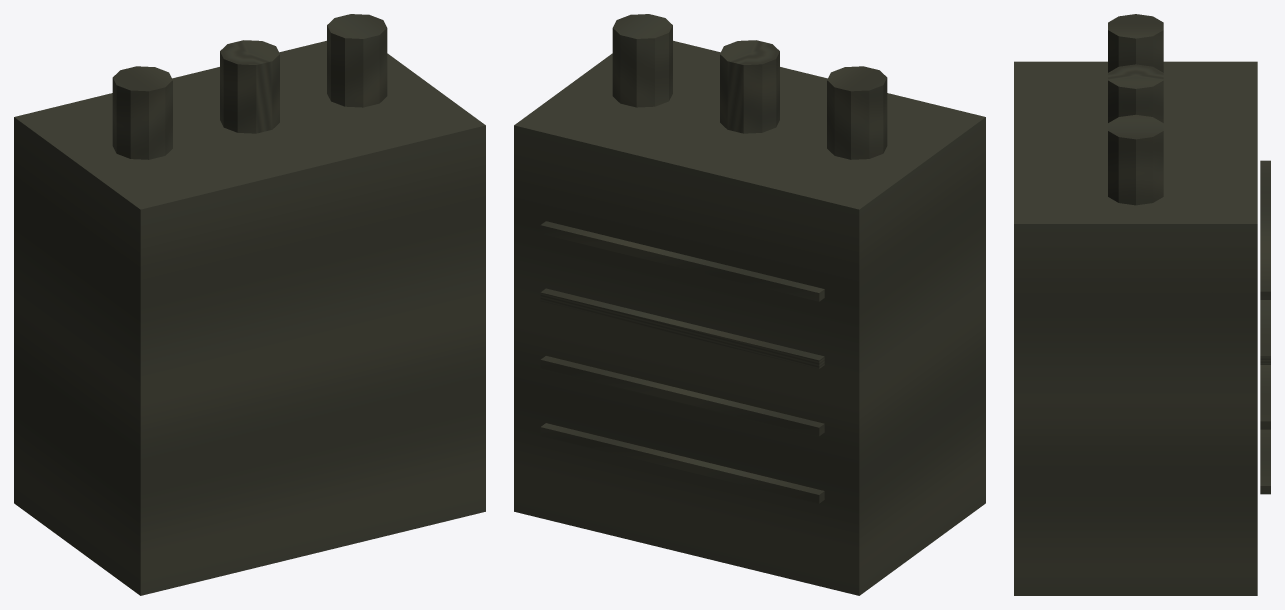
File: env_industrial_cooling_unit_a.glb
3 renders of one model, left to right at view 1: azimuth 30°, elevation 25°; view 2: azimuth 150°, elevation 25°; view 3: azimuth 270°, elevation 25°, orthographic. The views are drawn at different scales.
Visible parts, largest first — view 1: env_industrial_cooling_unit_a; view 2: env_industrial_cooling_unit_a; view 3: env_industrial_cooling_unit_a.
Part boxes in pixels (left/top/right/bottom): env_industrial_cooling_unit_a: left=14, top=14, right=485, bottom=595; env_industrial_cooling_unit_a: left=514, top=14, right=985, bottom=595; env_industrial_cooling_unit_a: left=1014, top=14, right=1270, bottom=595.
Bounding box in the file's own units: 1.45 × 1.83 × 0.97.
Materials: 1 (1 with a texture image).
